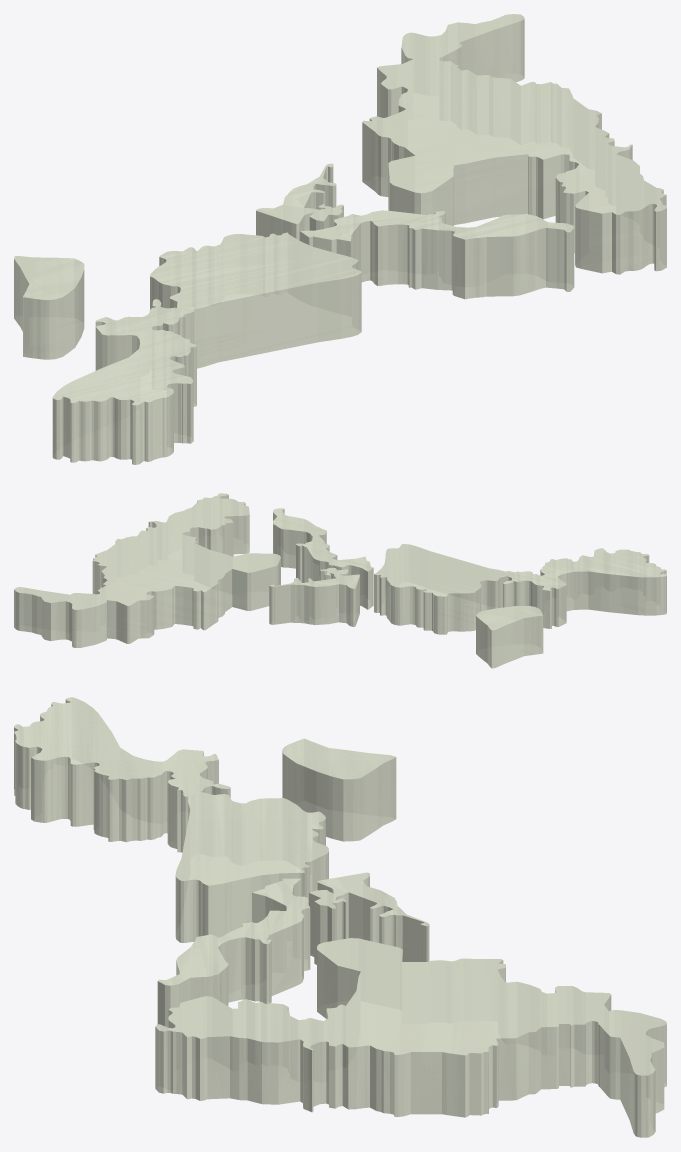
Rendered from developement_area_0.glb.
3 views of the same model, one above another, from view 1: azimuth 30°, elevation 25°; view 2: azimuth 150°, elevation 25°; view 3: azimuth 270°, elevation 25° (orthographic). The views are drawn at different scales.
Visible parts, largest first — view 1: mesh_CityEngineMaterial, mesh_CityEngineMaterial_2; view 2: mesh_CityEngineMaterial, mesh_CityEngineMaterial_2; view 3: mesh_CityEngineMaterial, mesh_CityEngineMaterial_2.
Part boxes in pixels (left/top/right/bottom): mesh_CityEngineMaterial: left=14, top=14, right=666, bottom=464; mesh_CityEngineMaterial_2: left=14, top=14, right=663, bottom=464; mesh_CityEngineMaterial: left=14, top=493, right=666, bottom=668; mesh_CityEngineMaterial_2: left=14, top=493, right=666, bottom=668; mesh_CityEngineMaterial: left=14, top=697, right=666, bottom=1137; mesh_CityEngineMaterial_2: left=14, top=697, right=666, bottom=1137.
Bounding box in the file's own units: 13059 × 1000 × 9524.
